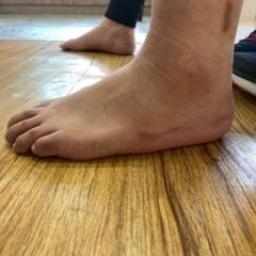Lateral View -Left Foot-: (1, 20, 244, 172)
